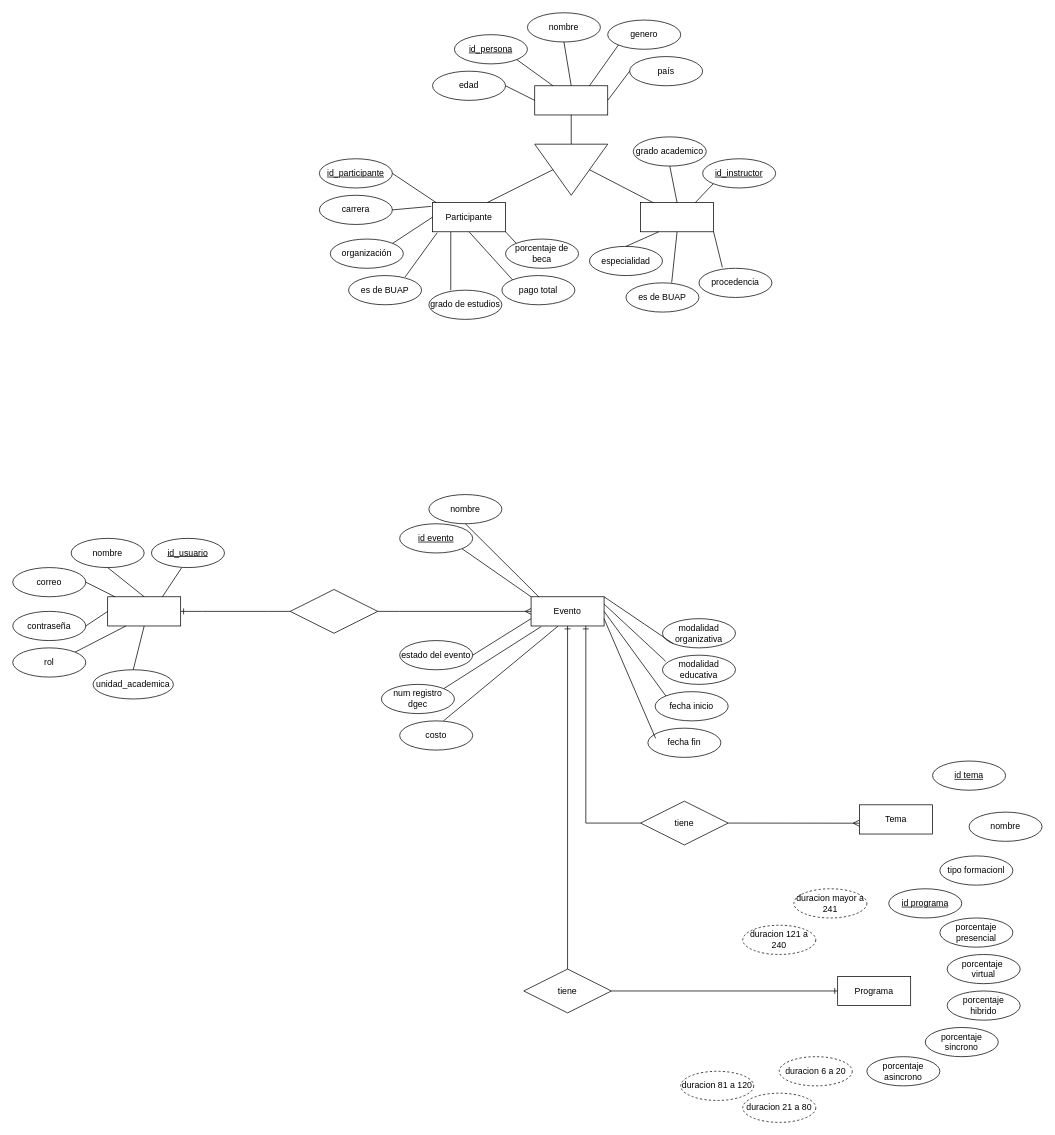
This 1055x1135 diagram has some shape labels left out. The centre of each missing label's shape, as x and y in pixels:
"es" belongs at point 571,169.
"Instructor" belongs at point 677,217.
"organiza" belongs at point 333,611.
"Persona" belongs at point 571,100.
"Usuario" belongs at point 144,611.
